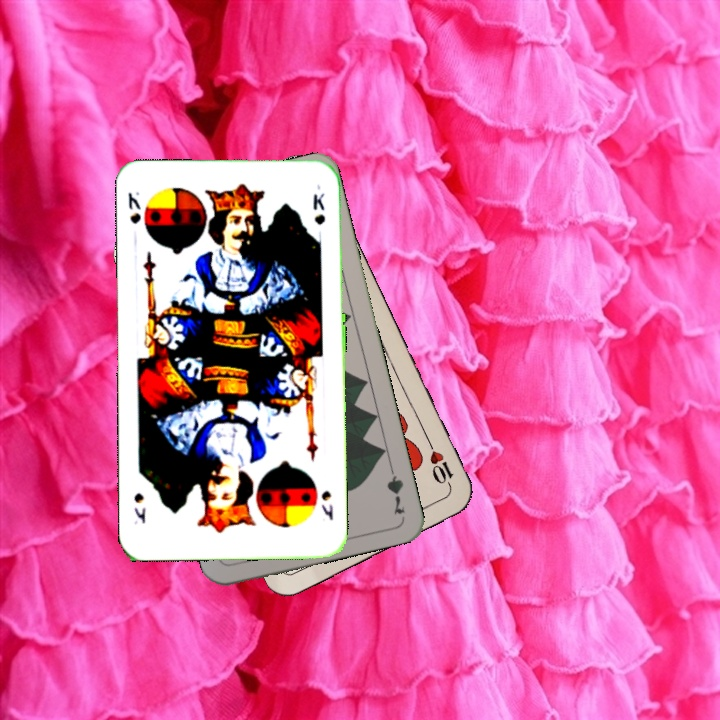G7: (382, 458, 408, 517)
H10: (423, 436, 456, 493)
SK: (124, 187, 143, 226), (317, 487, 336, 523)
